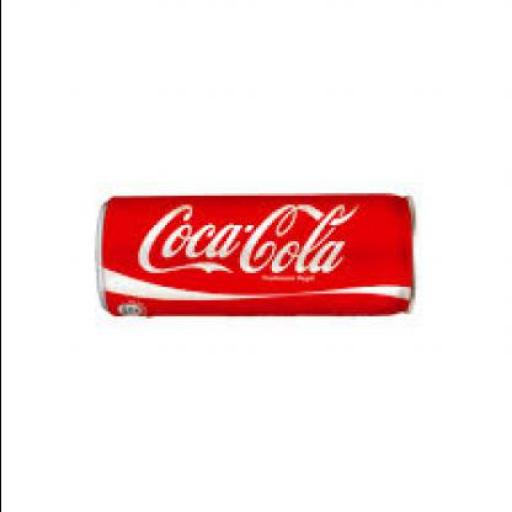metal: (100, 191, 417, 316)
